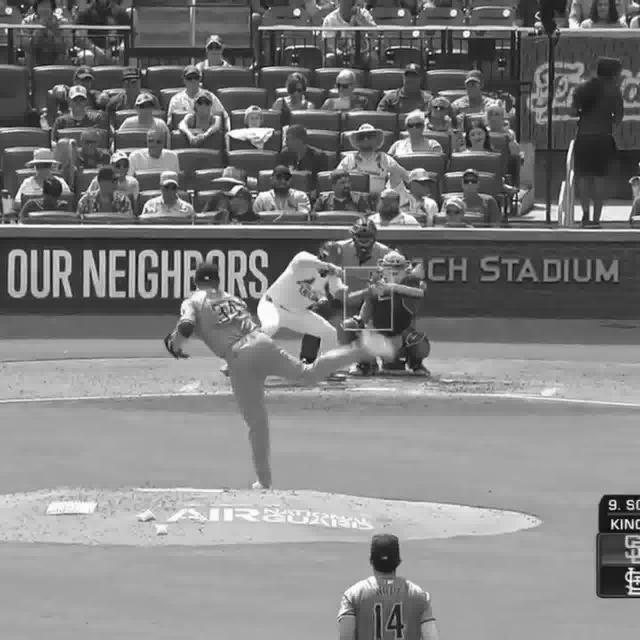base: (347, 384, 395, 394)
baseball_glove: (163, 334, 188, 365)
bat: (345, 284, 426, 298)
shoe: (366, 333, 393, 365), (250, 486, 270, 494), (416, 370, 432, 378)
